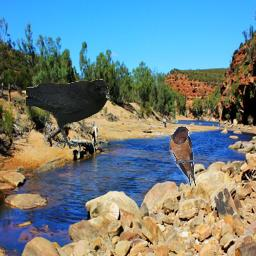Crow: (26, 79, 109, 149)
Swallow: (169, 126, 197, 188)
